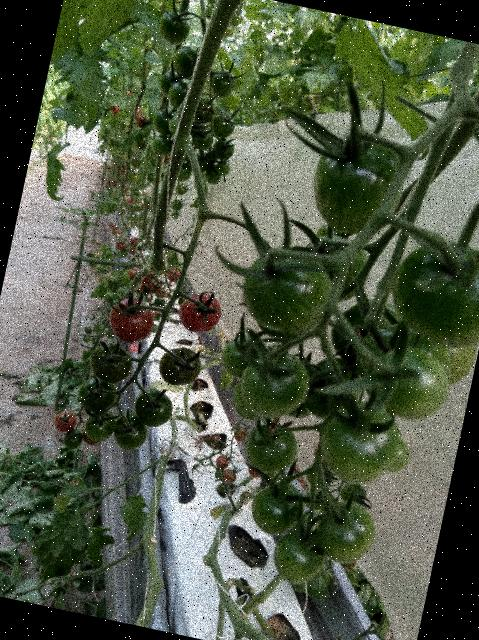l_fully_ripened: (104, 294, 158, 347), (175, 288, 225, 337), (53, 409, 78, 434), (166, 267, 181, 282)
l_green: (304, 125, 412, 242), (383, 232, 479, 353), (235, 242, 339, 340), (315, 395, 407, 492), (349, 317, 457, 398), (365, 341, 454, 427), (234, 345, 315, 424), (326, 291, 405, 370), (311, 495, 381, 569), (247, 475, 309, 540), (268, 525, 329, 588), (241, 418, 302, 477), (218, 329, 269, 383), (85, 338, 137, 387), (155, 342, 204, 390), (439, 336, 479, 389), (130, 385, 176, 430), (228, 378, 272, 423), (74, 375, 120, 416), (110, 409, 151, 454), (155, 8, 193, 47), (81, 405, 118, 445), (168, 43, 200, 80), (156, 68, 189, 102), (385, 436, 413, 476), (208, 67, 238, 102), (193, 96, 220, 126), (208, 113, 236, 140), (165, 79, 189, 110), (150, 108, 176, 136), (339, 481, 368, 505), (148, 133, 175, 158), (211, 136, 236, 160), (191, 128, 215, 151), (62, 427, 84, 451), (203, 165, 223, 186), (176, 161, 193, 183), (104, 274, 121, 291), (216, 160, 232, 177), (167, 115, 178, 134)
l_half_ripened: (126, 265, 141, 281)
